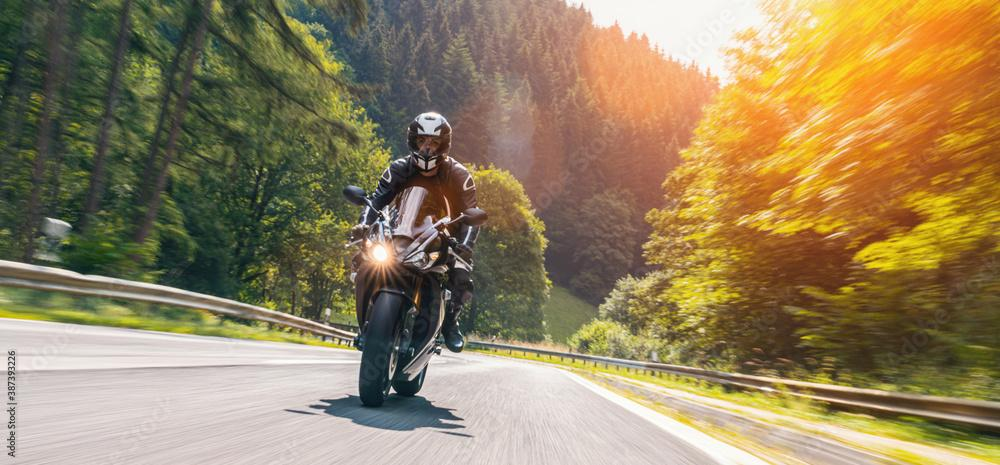helmet: (406, 111, 453, 173)
